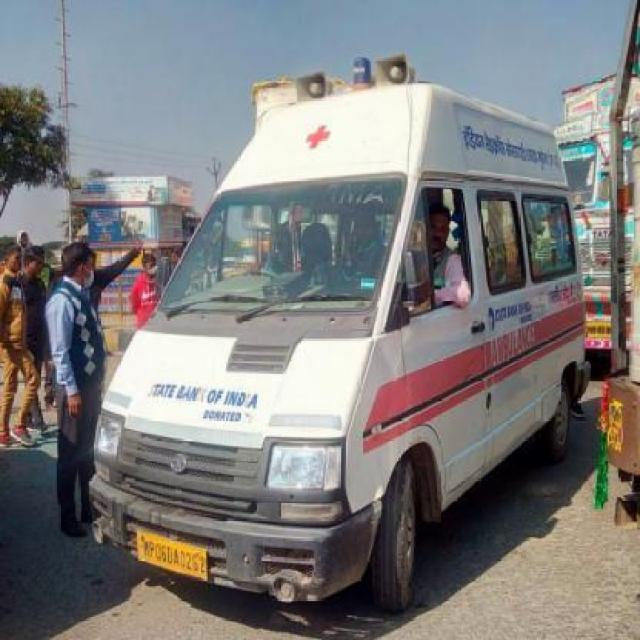emergency: (85, 52, 591, 612)
